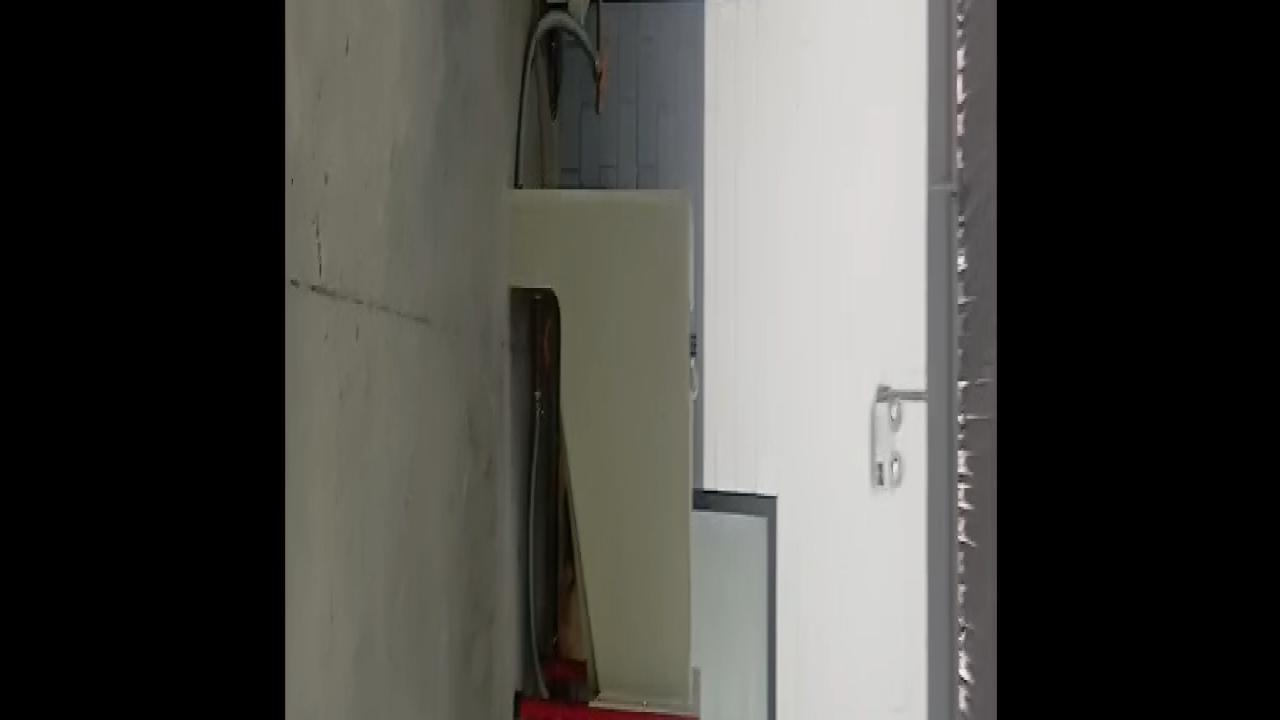Cube: (689, 332, 696, 358)
